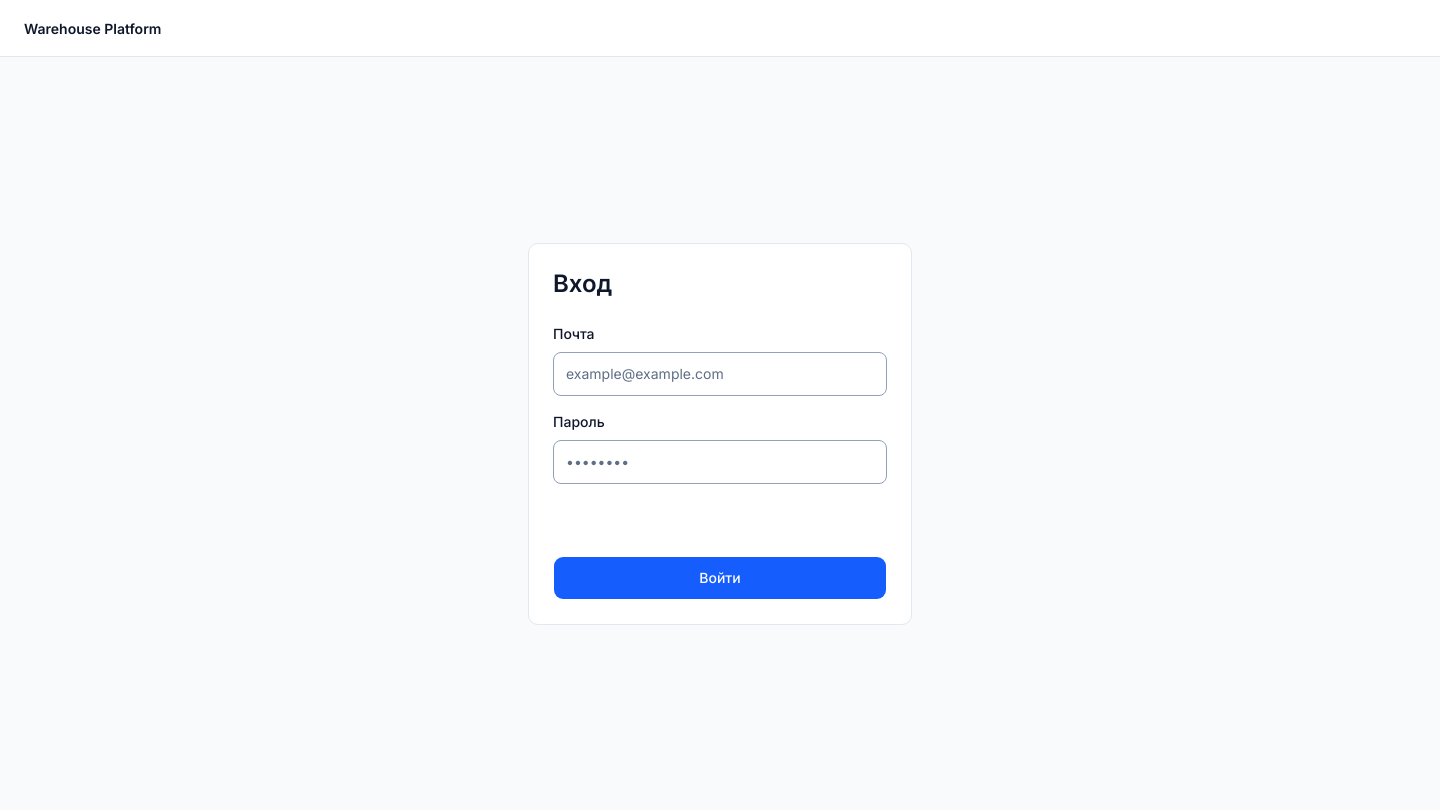
LoginPage › снова показывает ошибку, если исправленную почту сделать некорректной
The width and height of the screenshot is (1440, 810).
In the field labelled "Почта": (720, 374) [553,352,887,396], type "user@example.com"
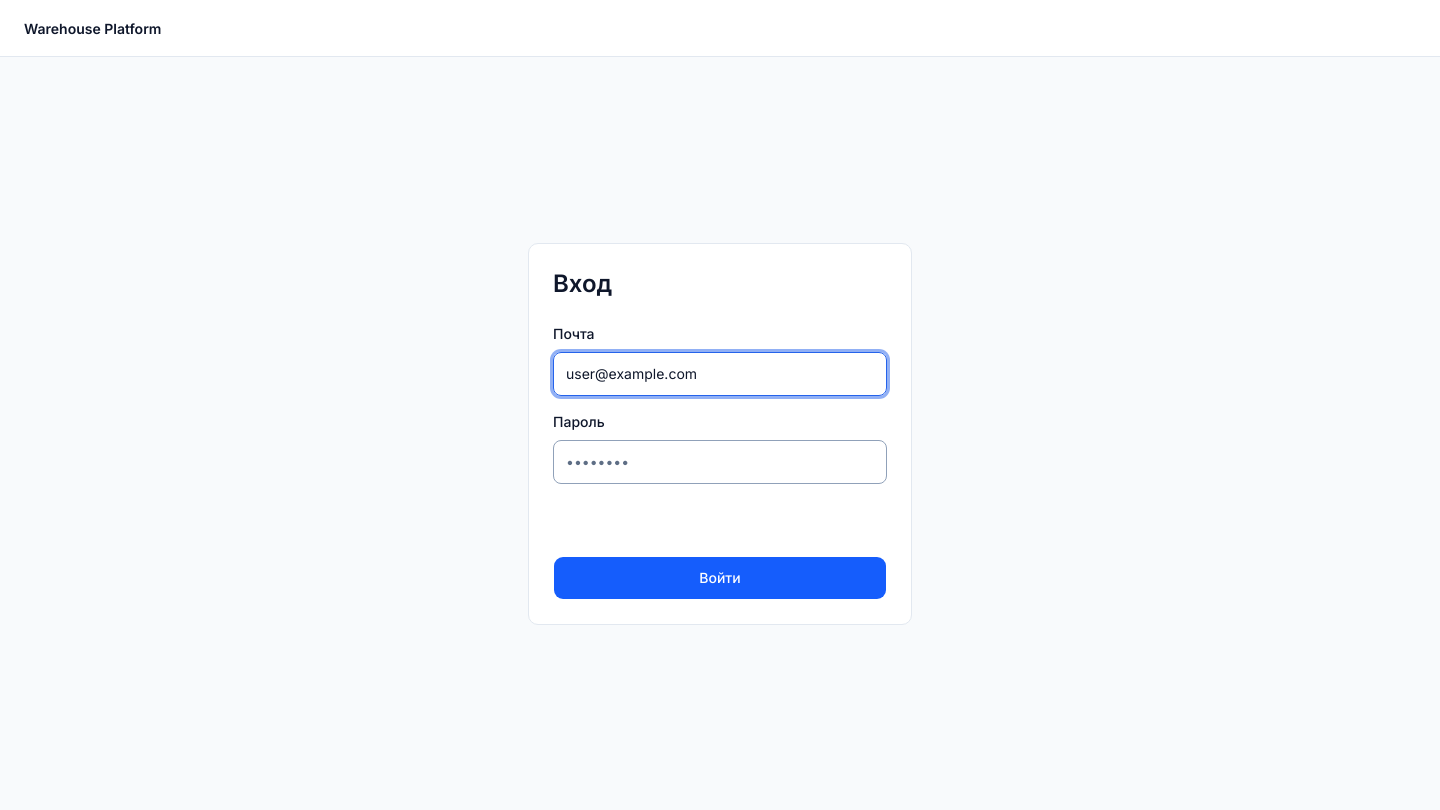
Click the button "Войти": click(720, 578) [553,556,887,600]
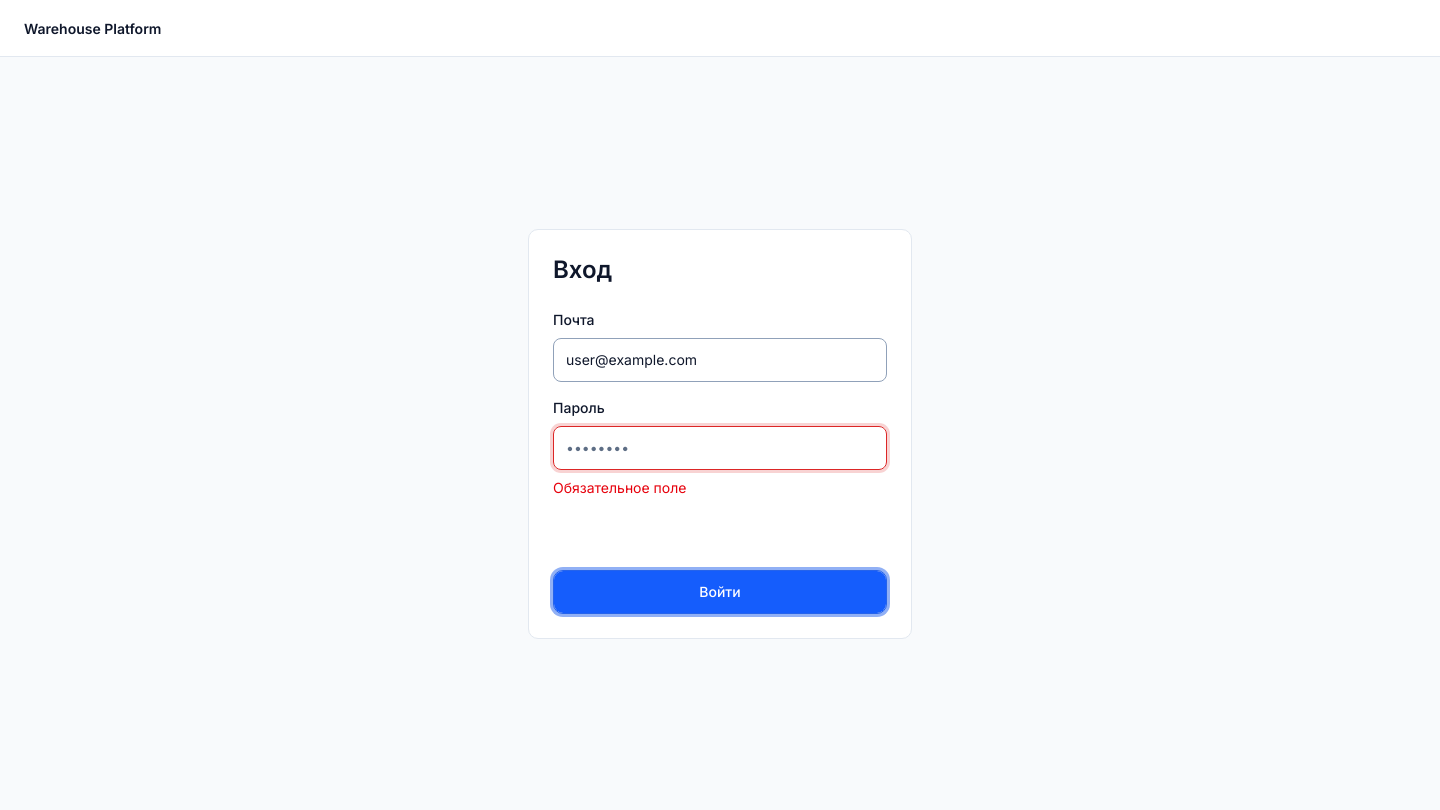
Clear the field labelled "Почта": (720, 360) [553,338,887,382]
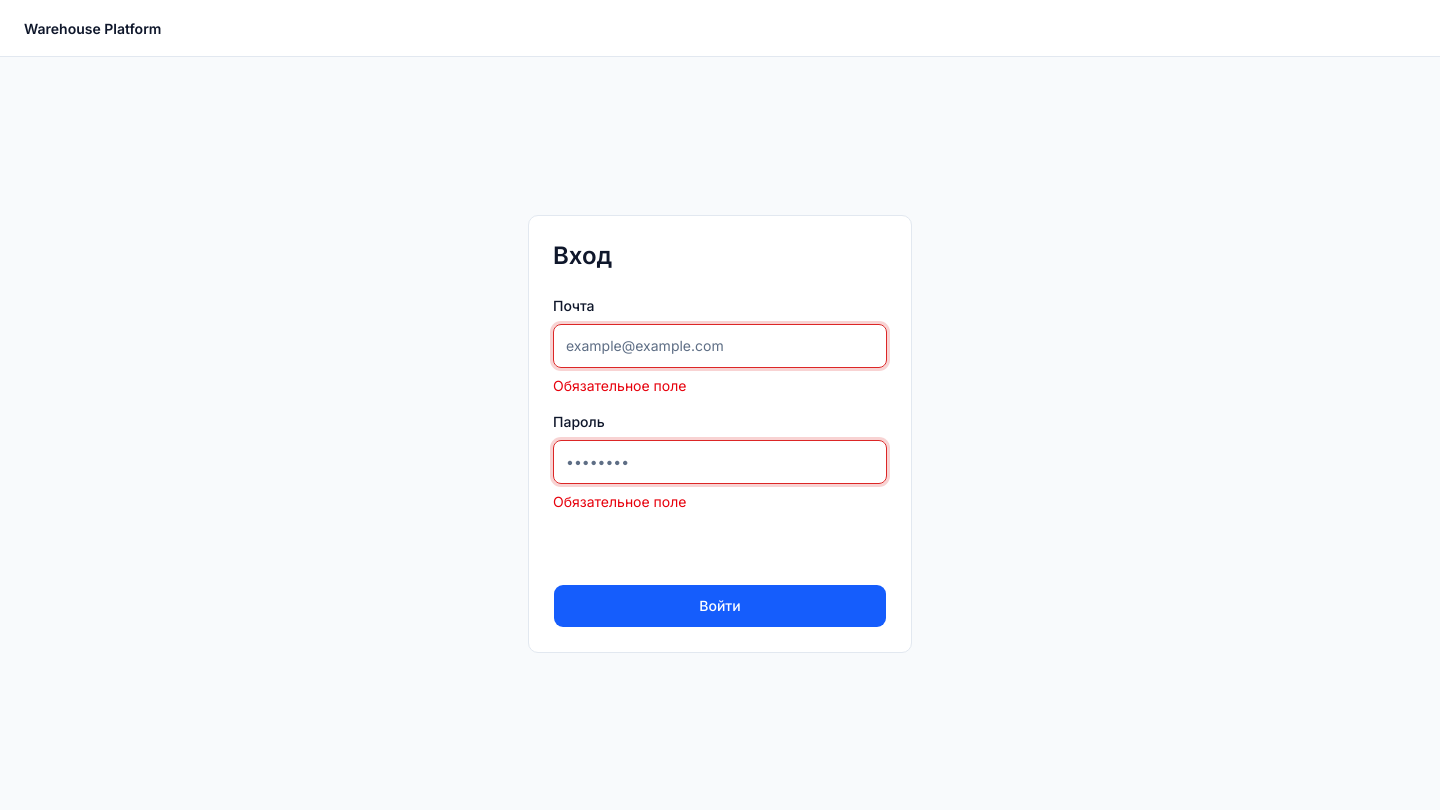
In the field labelled "Почта": (720, 346) [553,324,887,368], type "userexample.com"
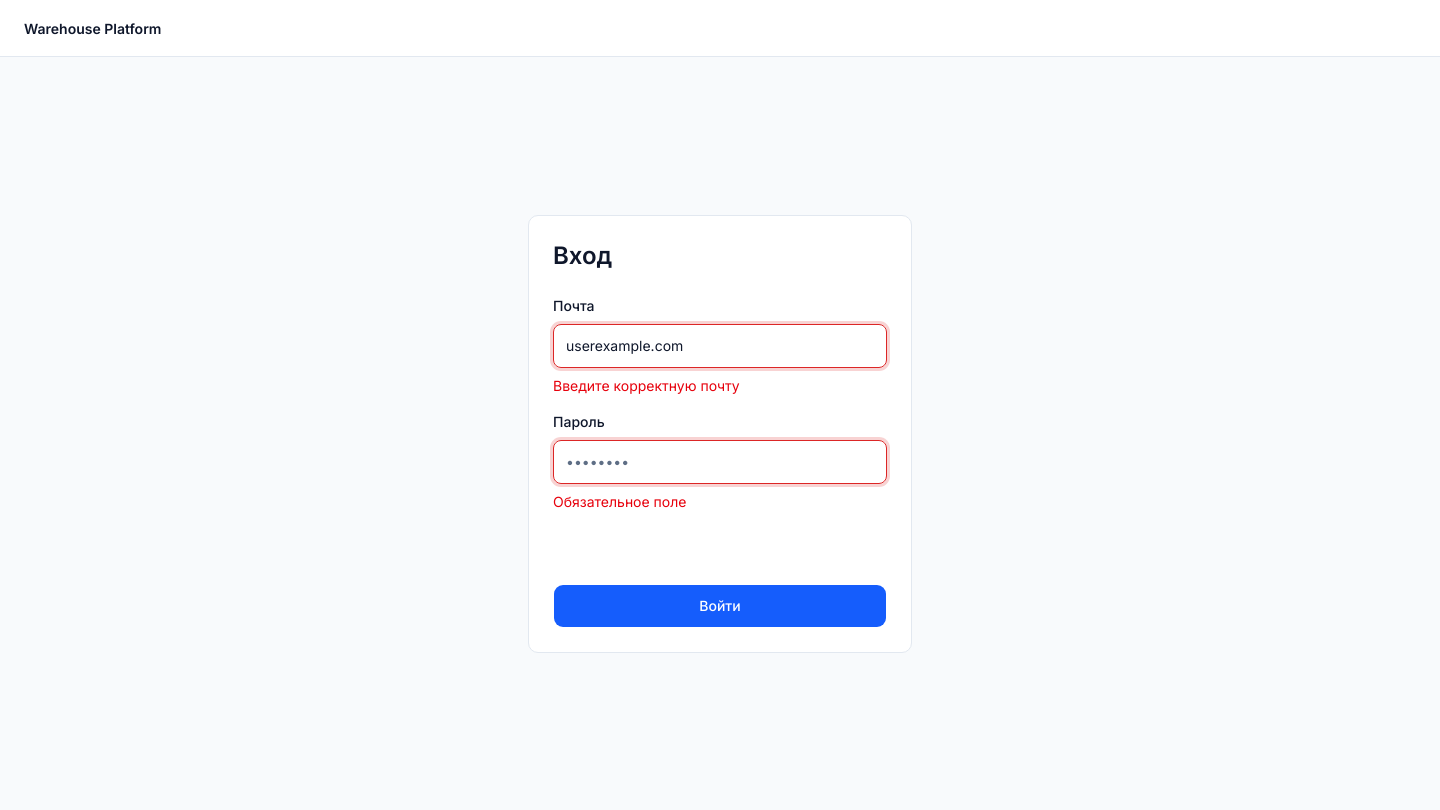
Check: the field labelled "Почта" is marked as invalid, box [553,324,887,368]
